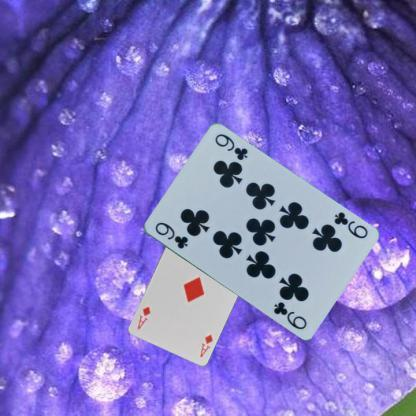9c: (152, 219, 190, 250), (331, 209, 369, 240)
Ad: (197, 332, 214, 359)
